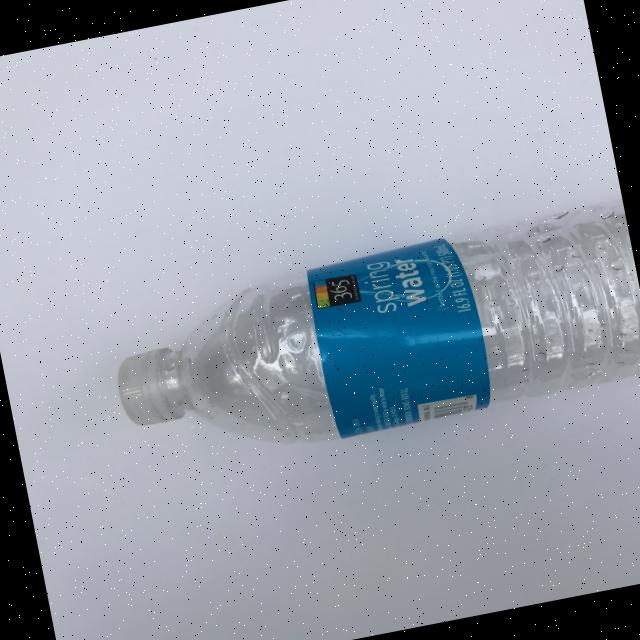plastic: (100, 198, 640, 479)
